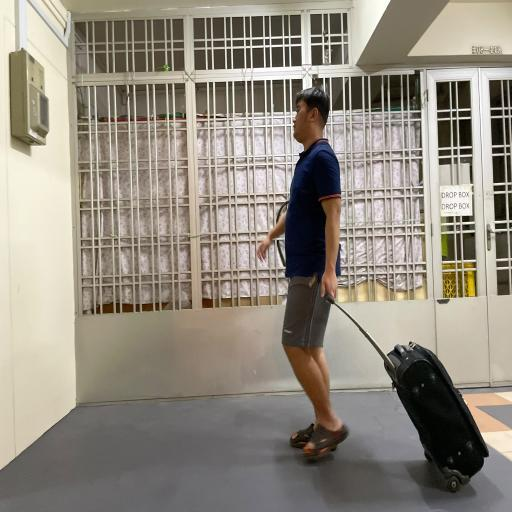person_left: (256, 79, 490, 503)
